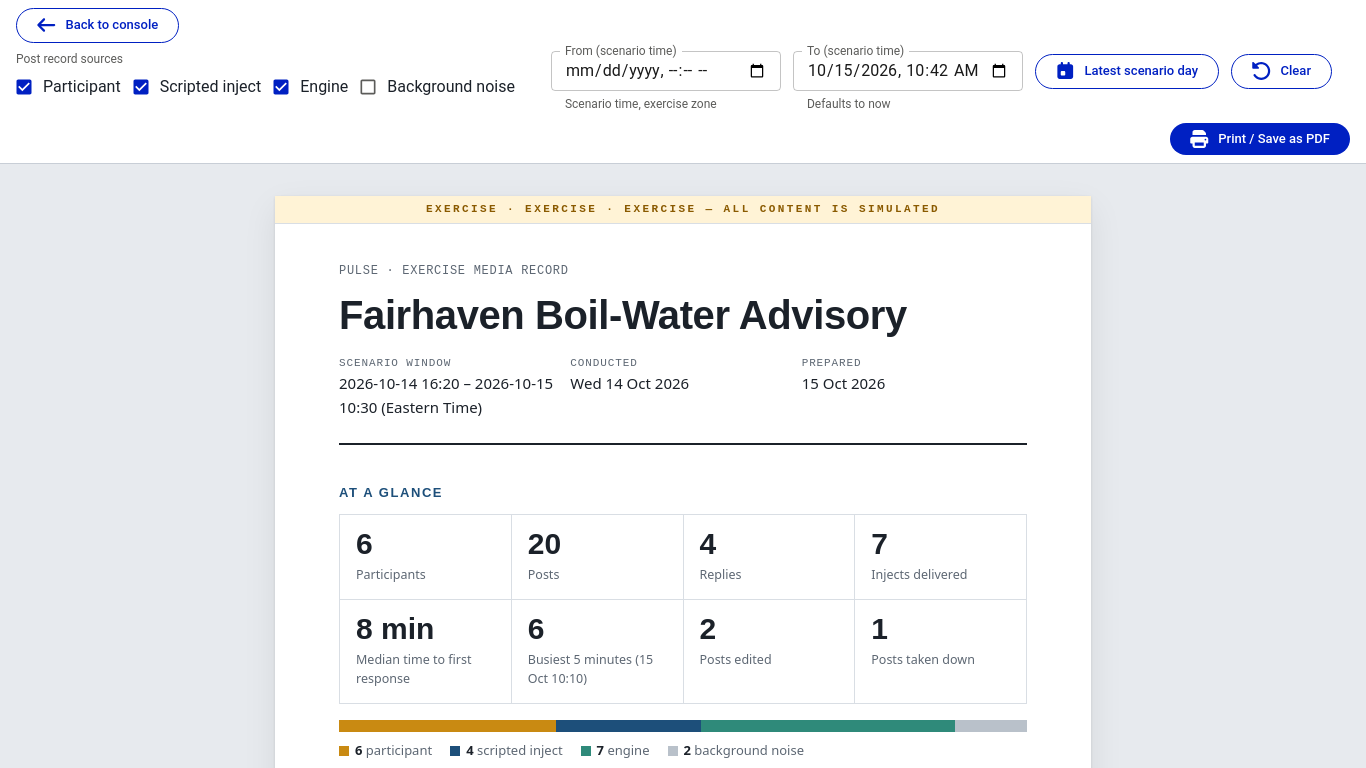
Test: ExerciseReportPage › story 30 filters › shows a 400 detail near the filters, keeps the last good sheet, and disables Print
Click the checkbox labelled "Engine" at (310, 87), box [271,77,348,97]
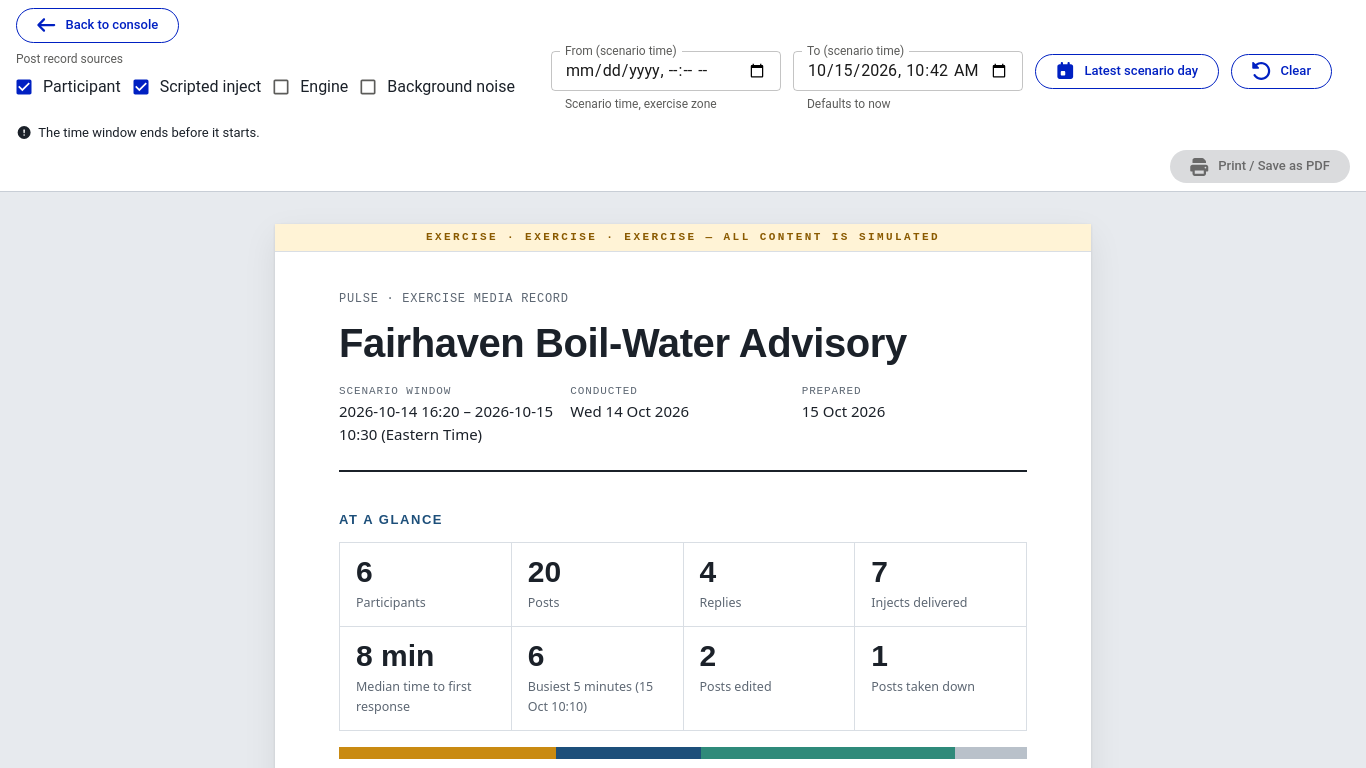
Now the message with test id "filter-server-error" reads "The time window ends before it starts.", box [38,125,260,140]
Now the button "Print / Save as PDF" is disabled, box [1170,150,1350,183]
